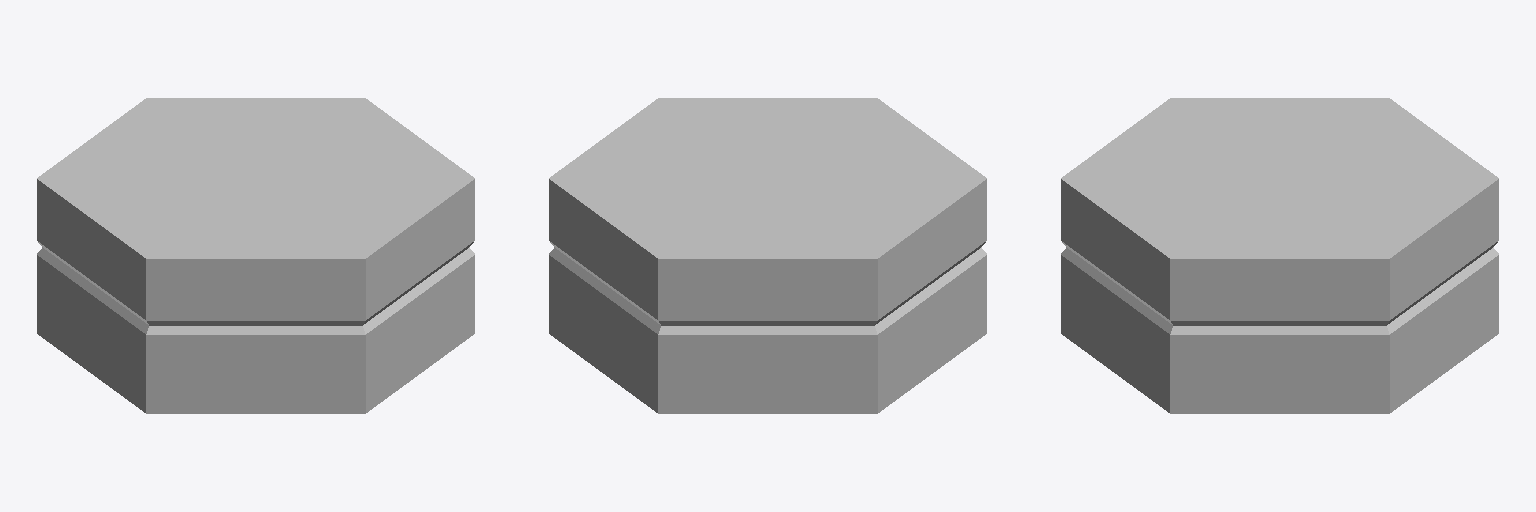
Rendered from hex_water_detail.obj.
3 views of the same model, side by side, from view 1: azimuth 30°, elevation 25°; view 2: azimuth 150°, elevation 25°; view 3: azimuth 270°, elevation 25° (orthographic).
Parts seen in each view (by area): view 1: hex_water_detail_Cylinder.482; view 2: hex_water_detail_Cylinder.482; view 3: hex_water_detail_Cylinder.482.
Part boxes in pixels (bbox=[...]): hex_water_detail_Cylinder.482: bbox=[37, 98, 474, 413]; hex_water_detail_Cylinder.482: bbox=[549, 98, 986, 413]; hex_water_detail_Cylinder.482: bbox=[1061, 98, 1498, 413].
Size of the model in its own units: 2 by 0.9 by 2.31.